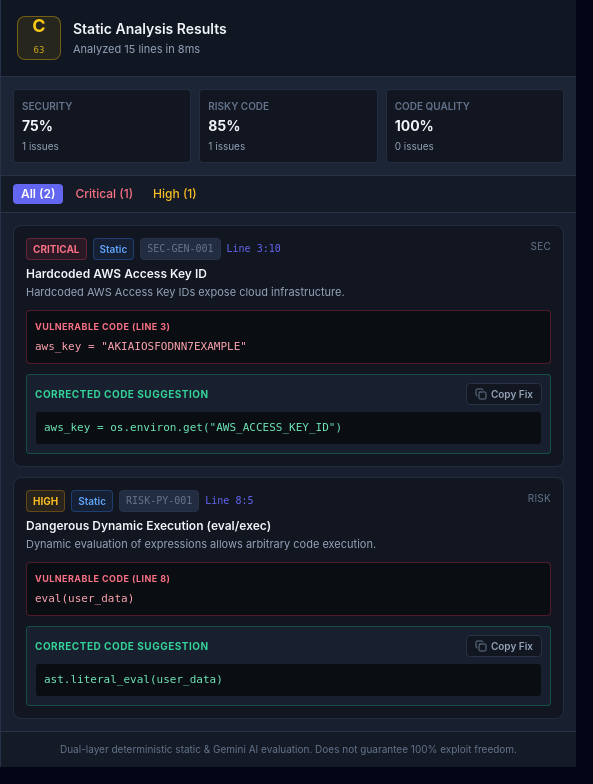
Scenario: Phase 7: Static Code Analysis Frontend Integration Tests › Test 6: Copy Fix copies suggested snippet to clipboard without modifying editor content
Click the button with aria-label "copy suggested fix" at (504, 394), box [466,383,542,405]
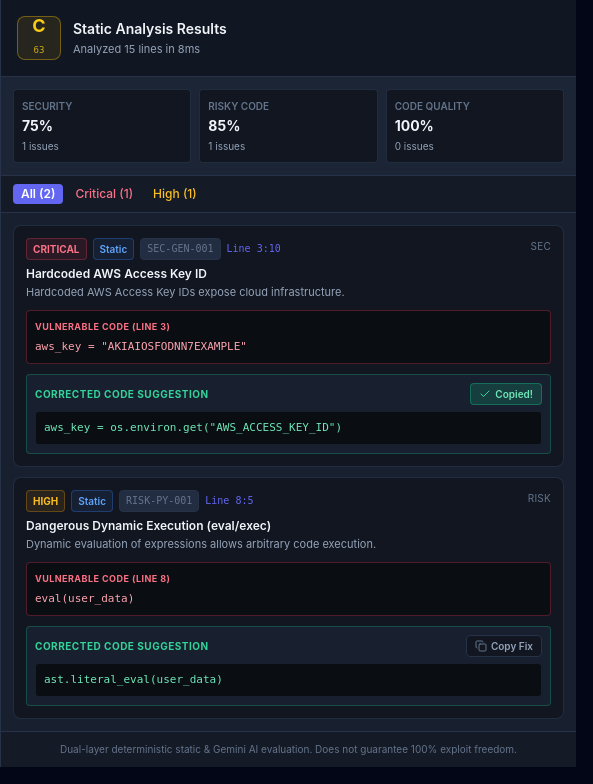
Check: the text "Copied!" is shown, box [495,386,533,402]
